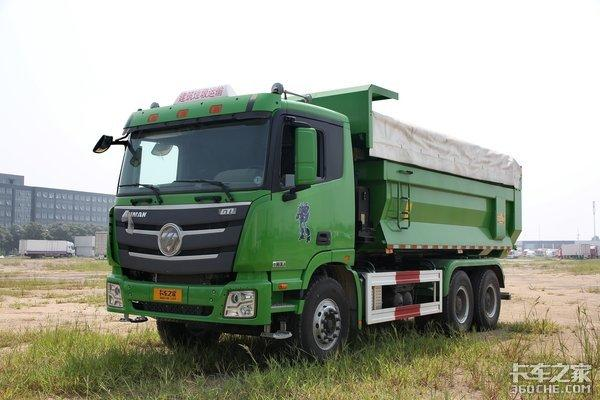truck: (99, 82, 526, 360)
